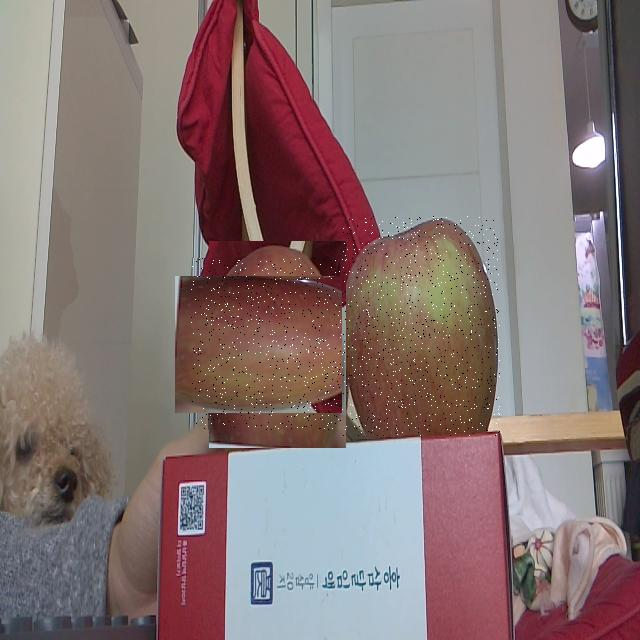apple: (343, 216, 500, 436), (192, 258, 364, 431)
